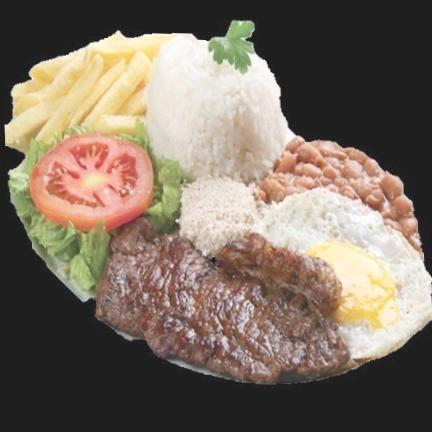beans: (260, 141, 423, 263)
egg: (253, 186, 432, 359)
meat: (97, 220, 351, 383)
potato: (5, 32, 188, 153)
rice: (147, 34, 294, 184)
salad: (8, 125, 181, 298)
tomato: (34, 133, 153, 228)
